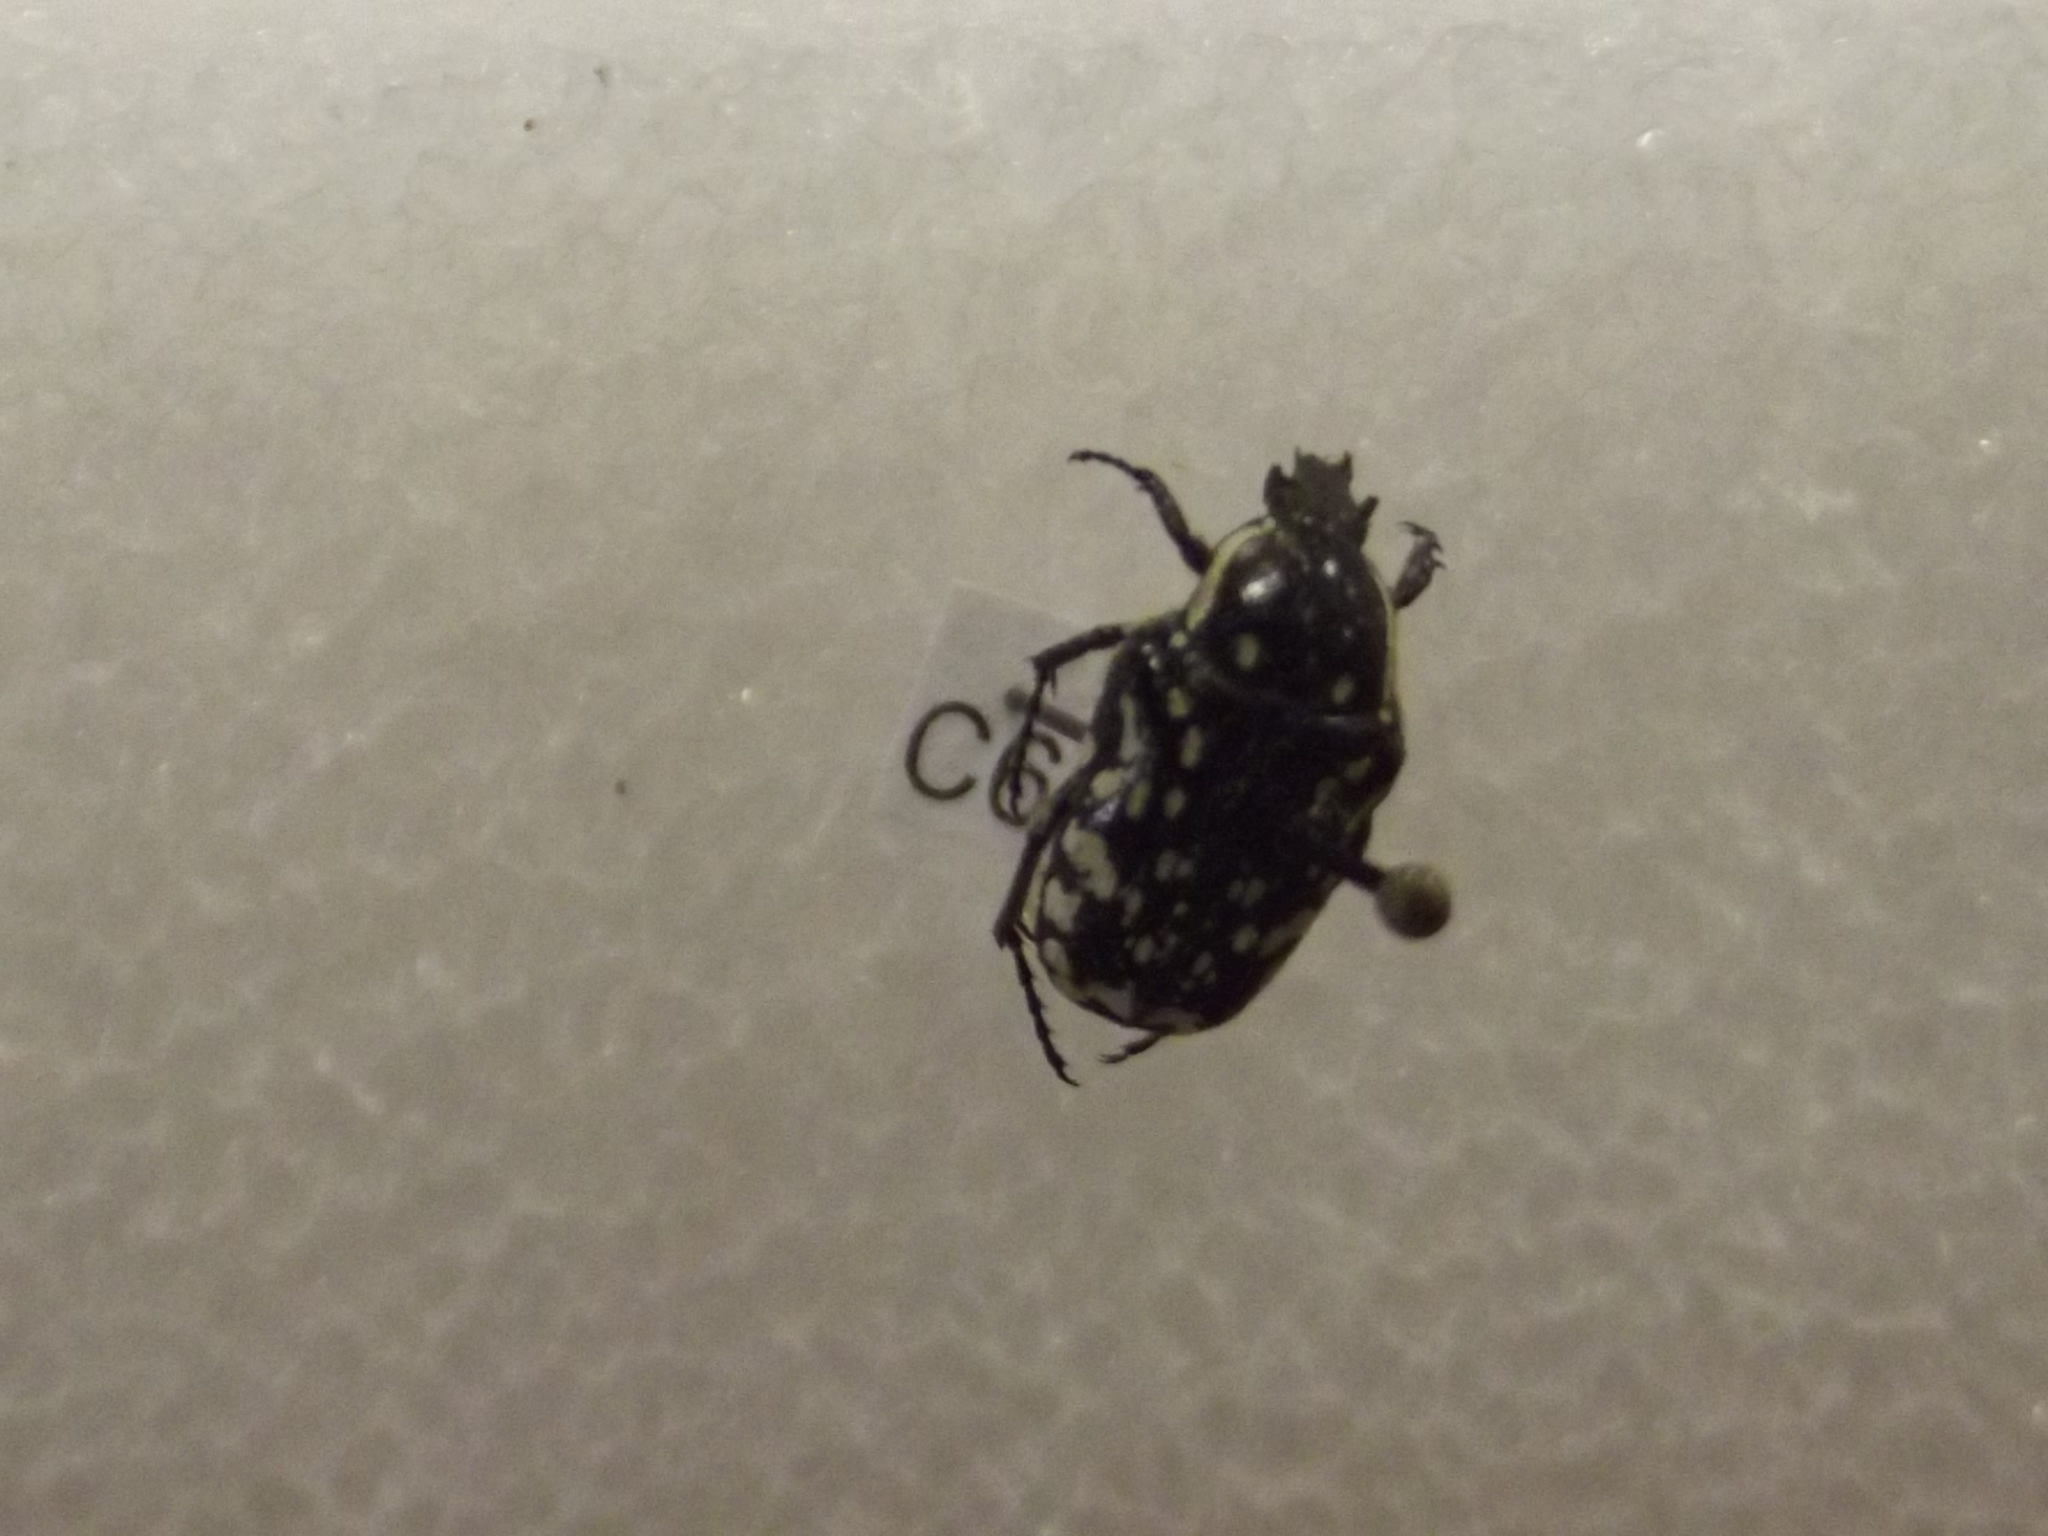Oxythyrea_funesta: (974, 418, 1450, 1094)
